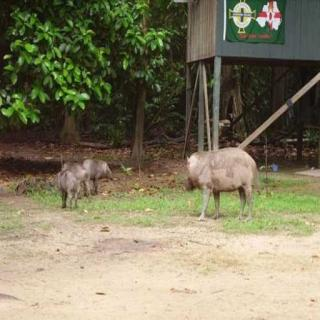Pig: (163, 128, 259, 222), (49, 157, 87, 214), (84, 152, 119, 210)
